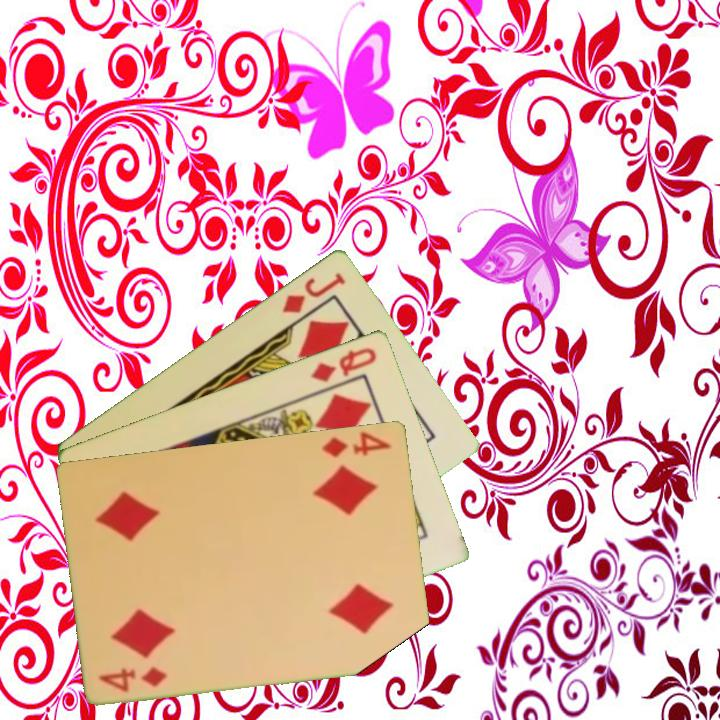4d: (319, 427, 394, 460), (95, 662, 171, 694)
Jd: (279, 268, 349, 316)
Qd: (307, 343, 380, 385)
